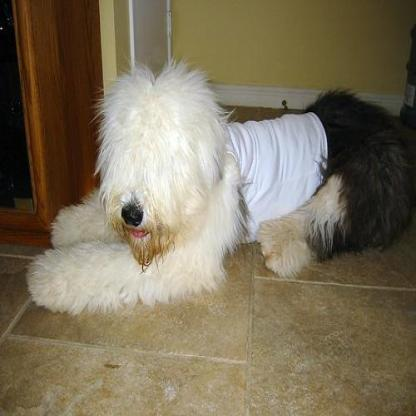Old_English_sheepdog: (24, 64, 414, 308)
